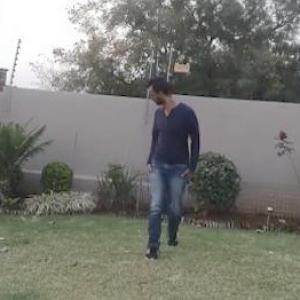follow: (132, 64, 199, 280)
